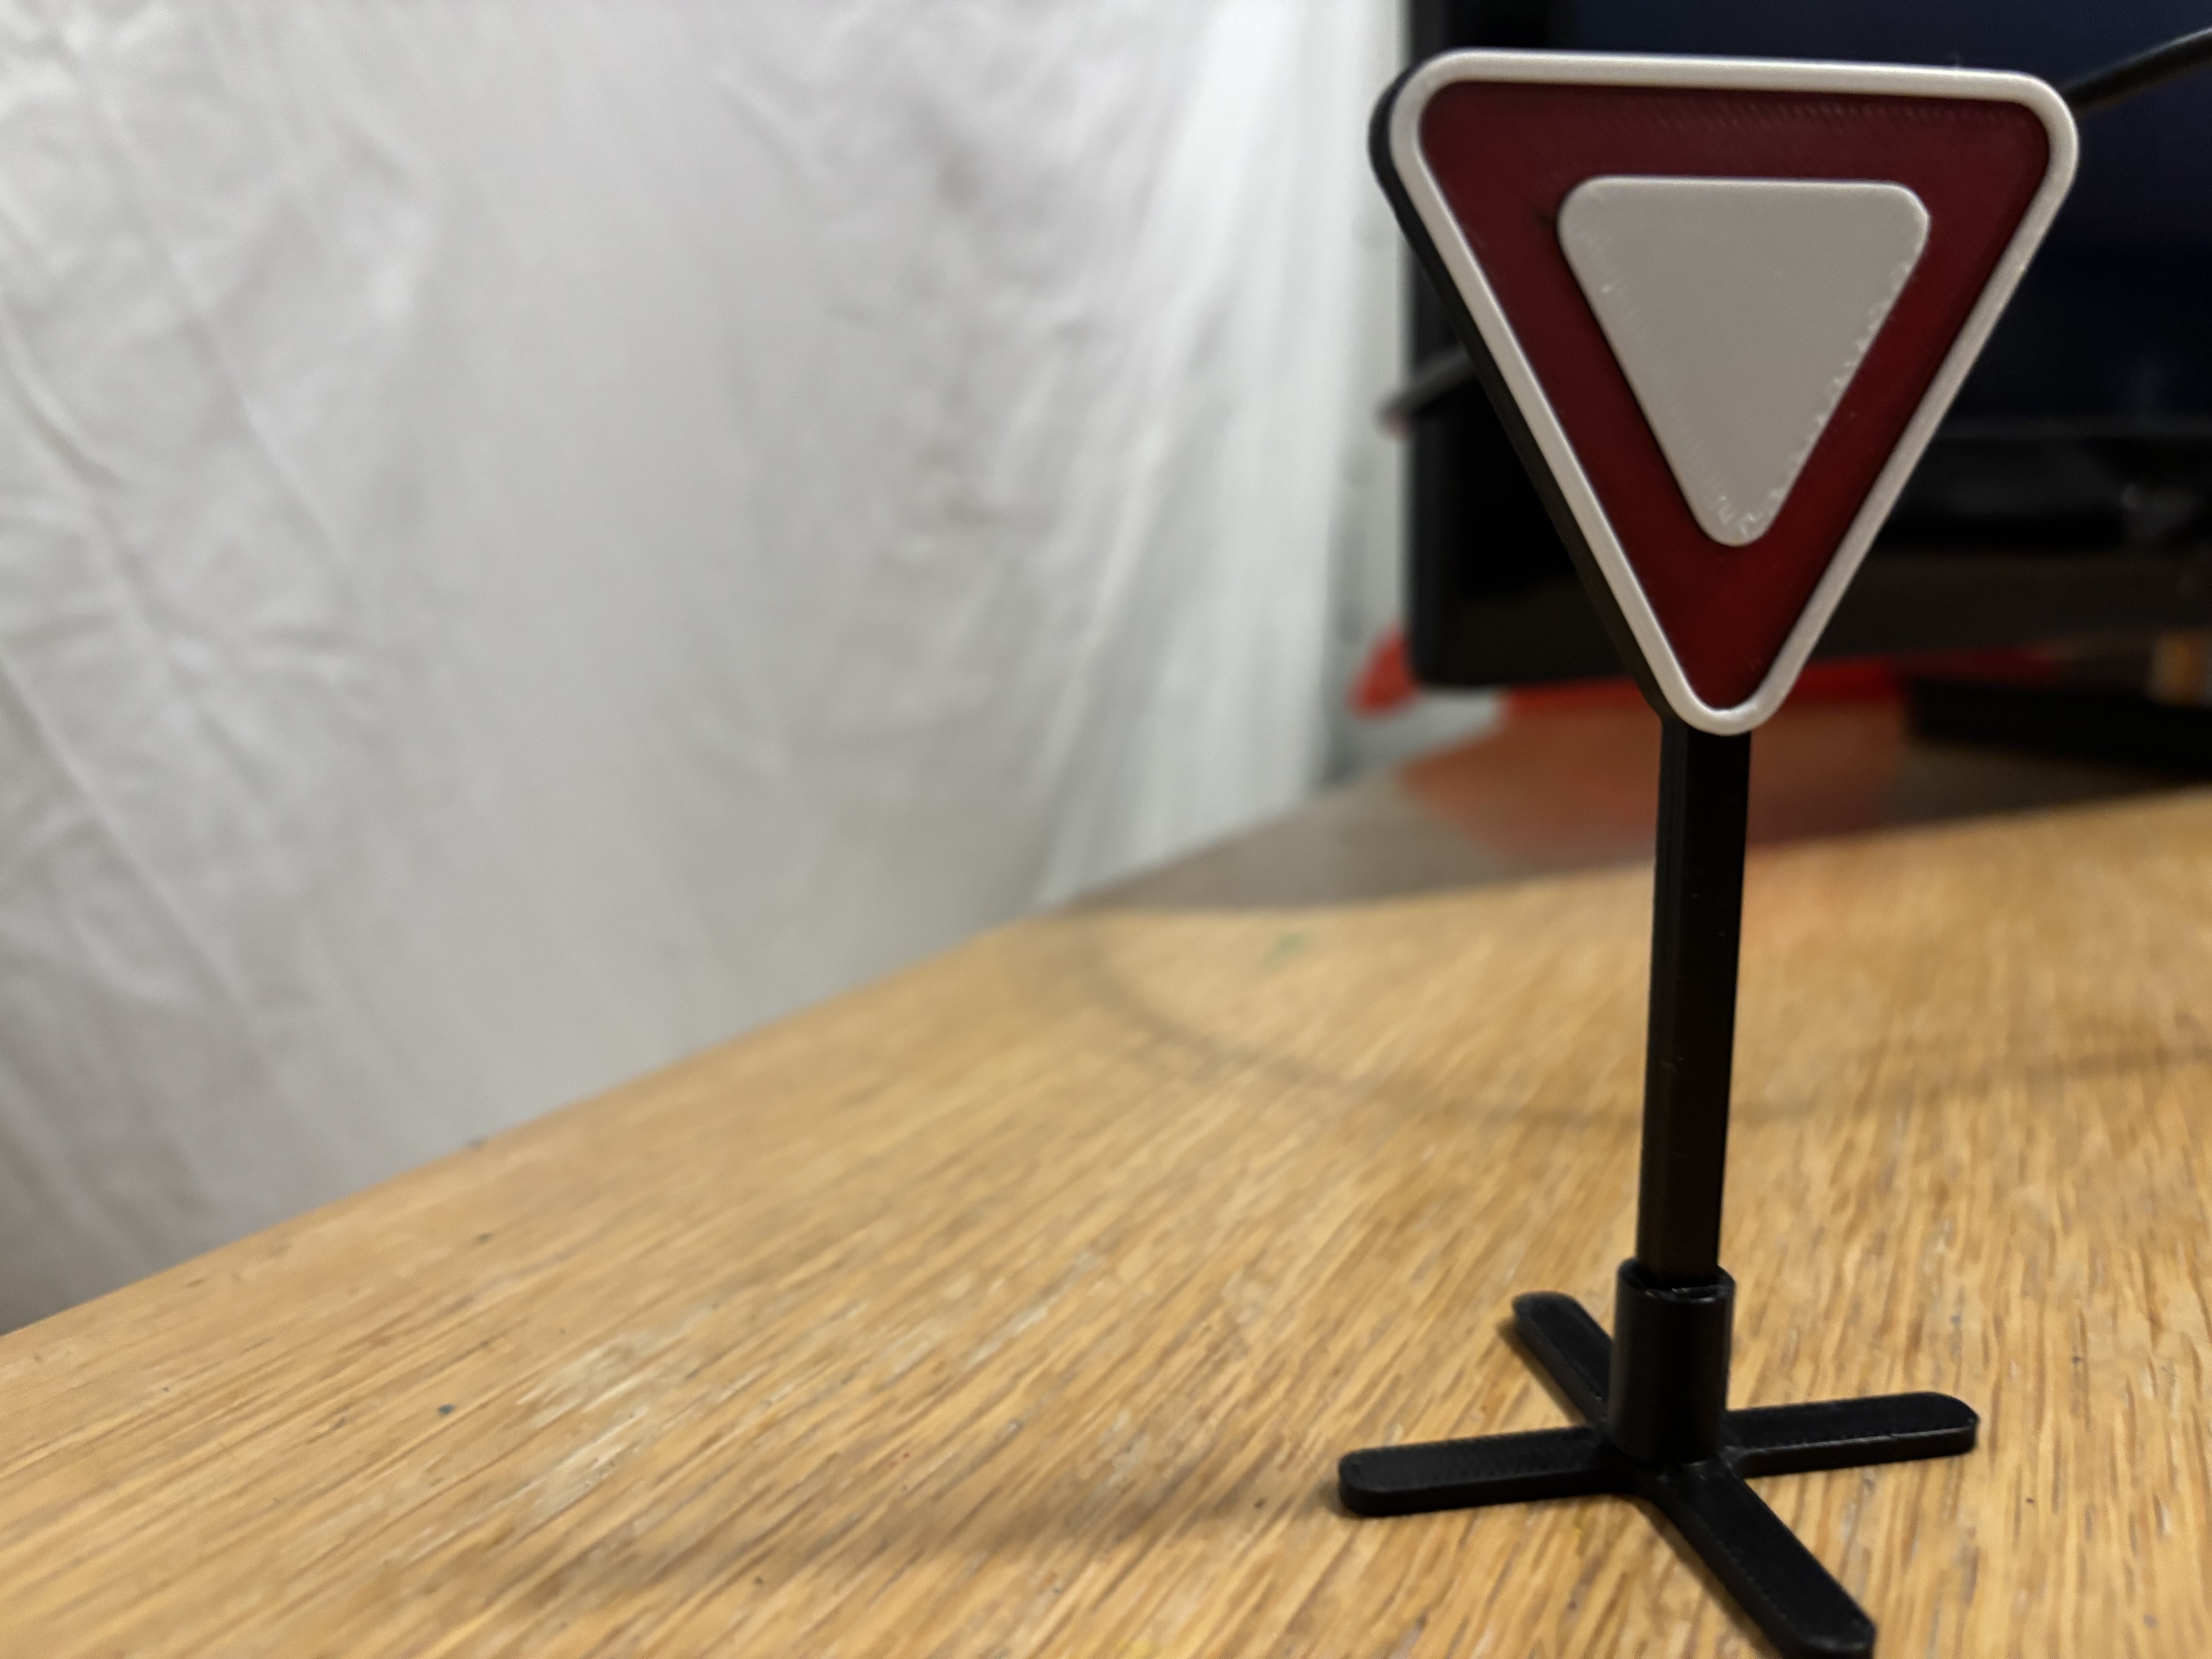sign_yield: (1332, 37, 2101, 774)
